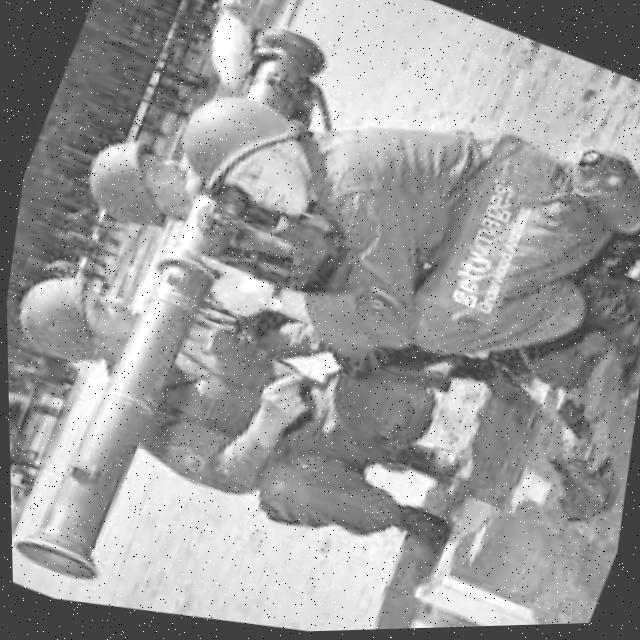rocket: (0, 0, 347, 622)
